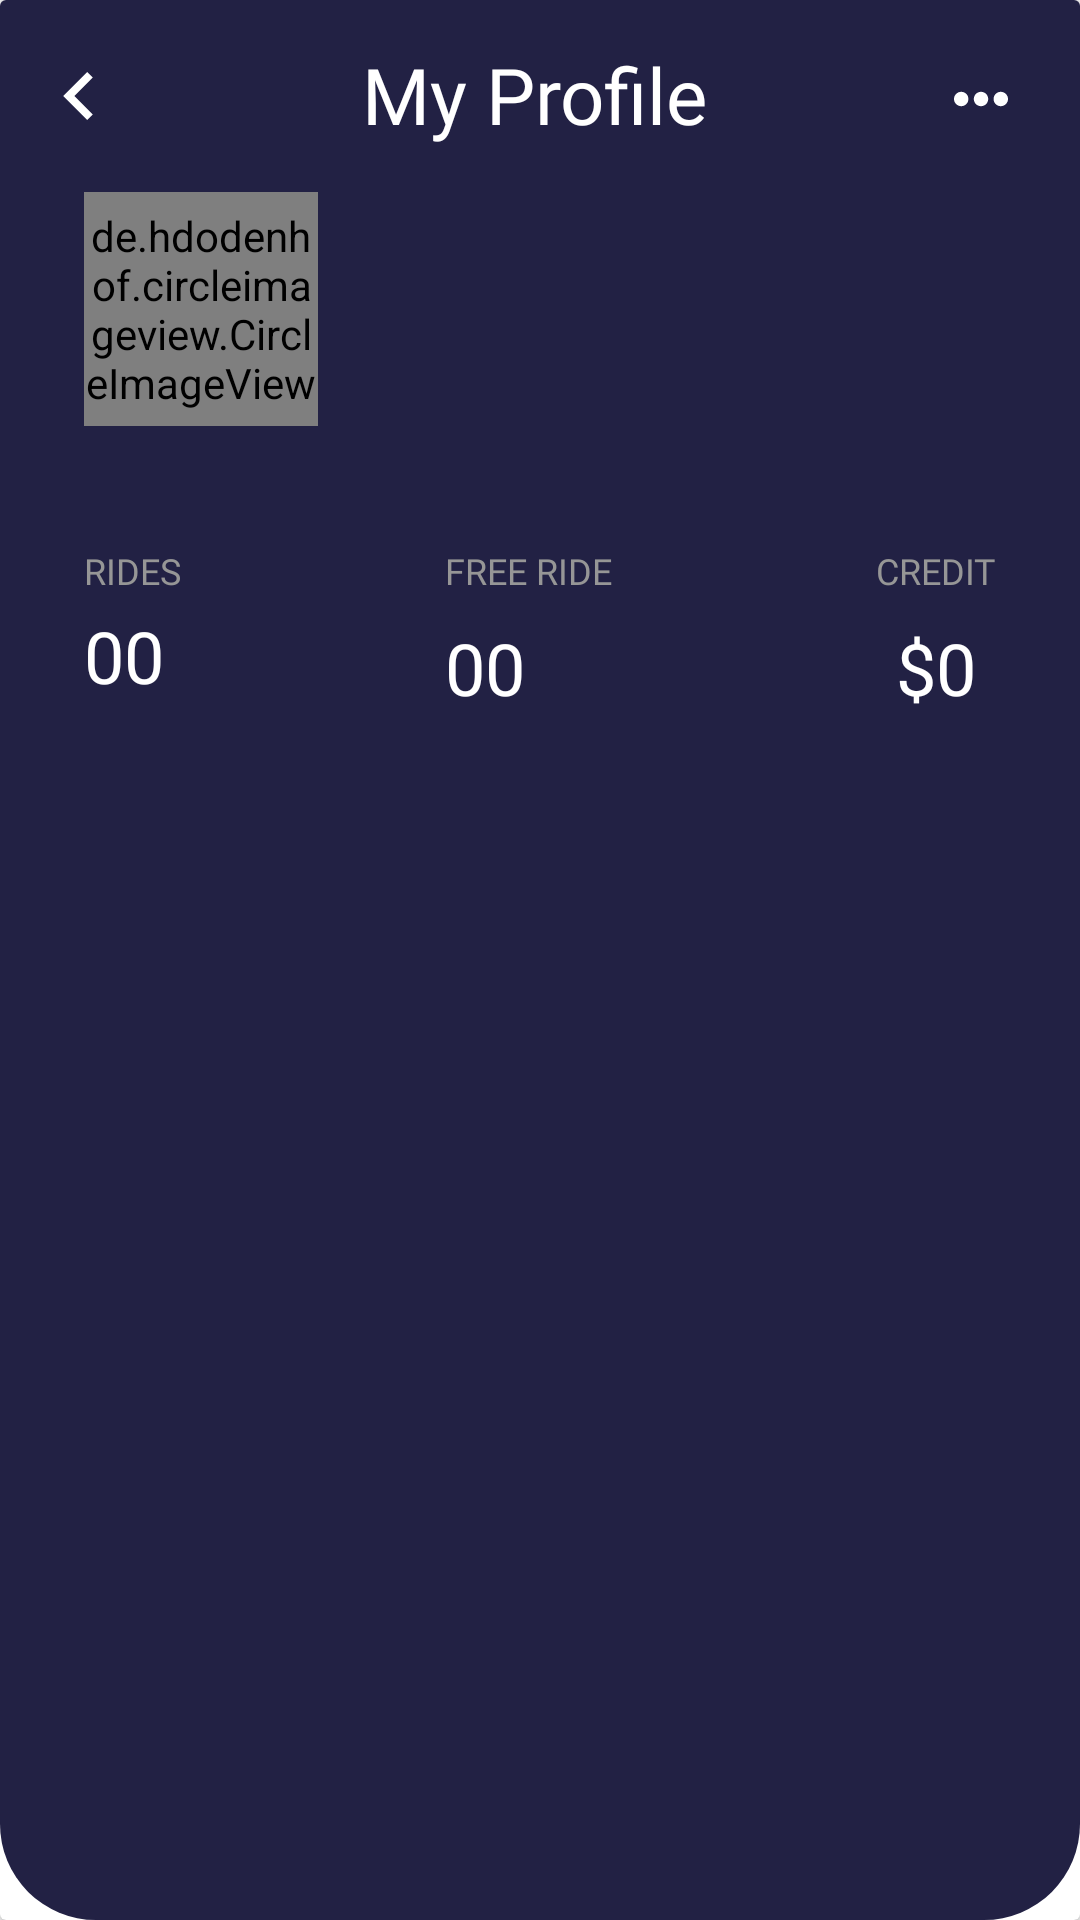

Locate icon controls on the screen. Image size 1080*1920, boxes as (x1, y1, x2, y2).
back: (63, 72, 93, 120)
more: (954, 91, 1008, 107)
